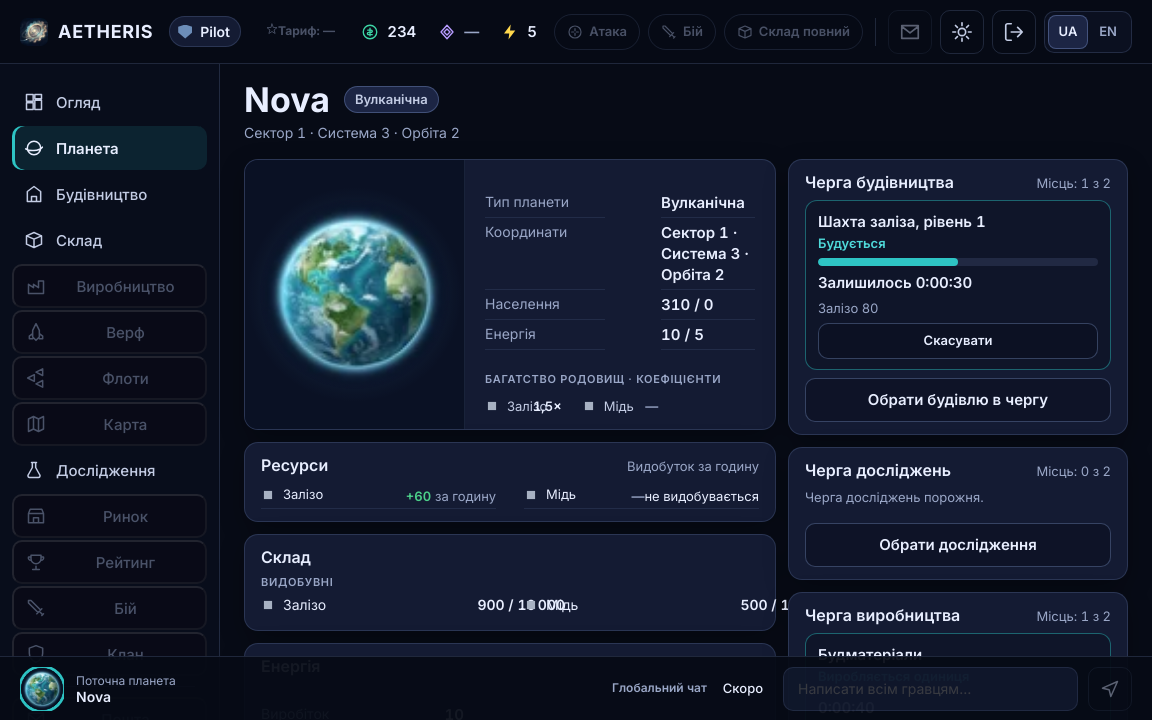
Test case: PlanetPage: the screen of the planet › cancels a record of the construction queue through the standard panel
Click the button with aria-label "Скасувати: Шахта заліза, рівень 1": (958, 341) [818, 323, 1098, 359]
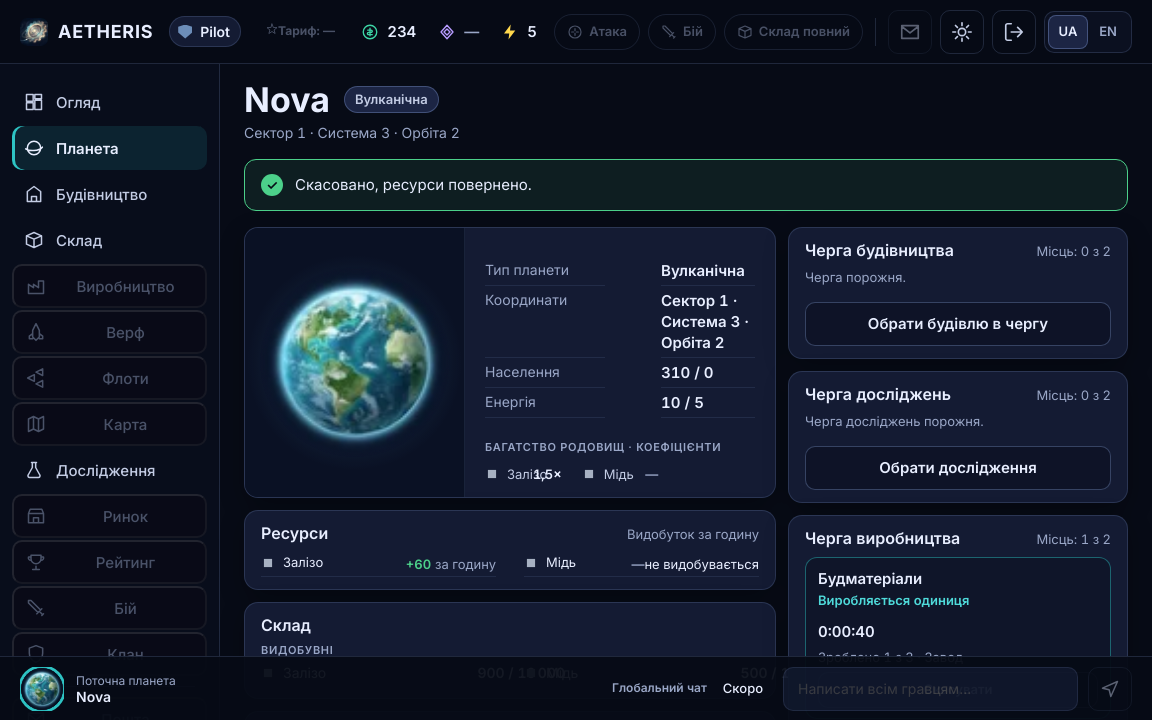
Expected: the text "Скасовано, ресурси повернено." is shown, [295, 174, 532, 195]
